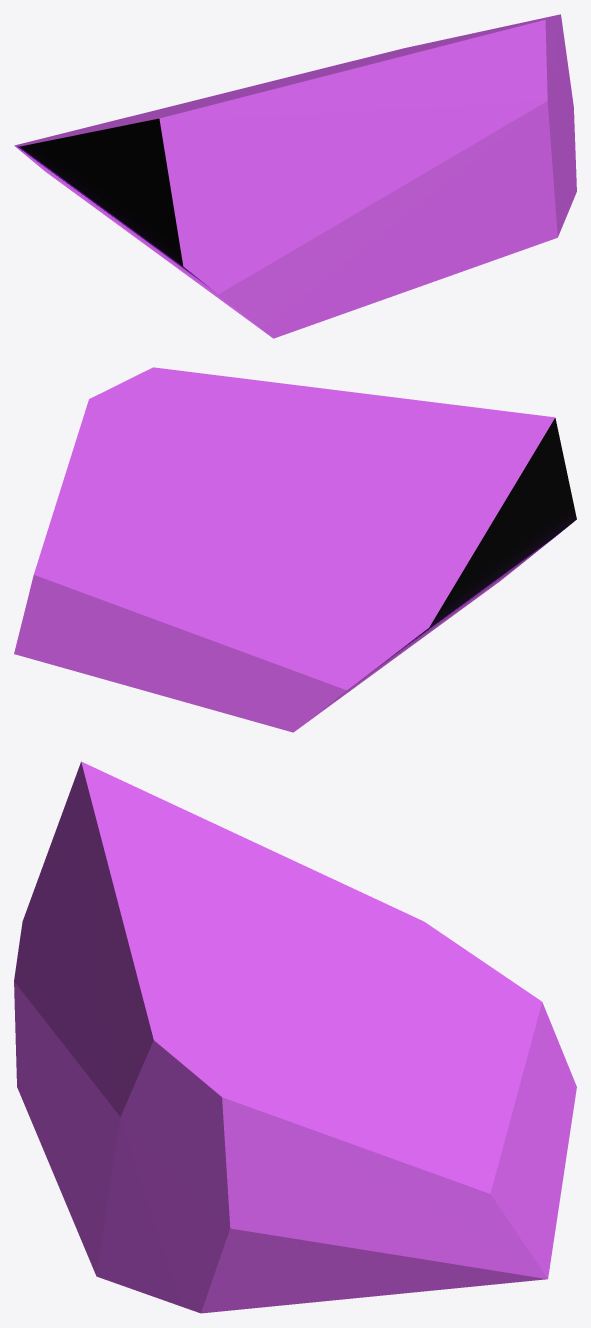
Rendered from blockParticle_4.gltf.
The picture shows the model from 3 angles, top to bottom: view 1: azimuth 30°, elevation 25°; view 2: azimuth 150°, elevation 25°; view 3: azimuth 270°, elevation 25°; orthographic projection. The views are drawn at different scales.
Parts seen in each view (by area): view 1: 立方体_cell.005; view 2: 立方体_cell.005; view 3: 立方体_cell.005.
Boxes of the visible parts, <box> form: 立方体_cell.005: <box>14,14,576,338</box>; 立方体_cell.005: <box>14,367,576,732</box>; 立方体_cell.005: <box>14,761,576,1313</box>.
Size of the model in its own units: 1.15 by 0.5127 by 0.9585.
2 materials, 2 textured.
